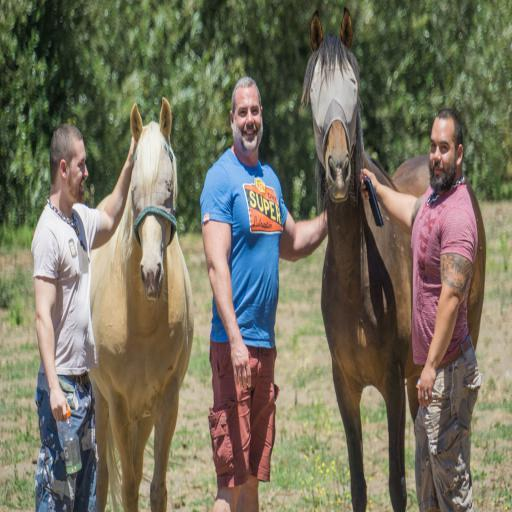horse: (300, 5, 486, 512), (88, 98, 194, 512)
